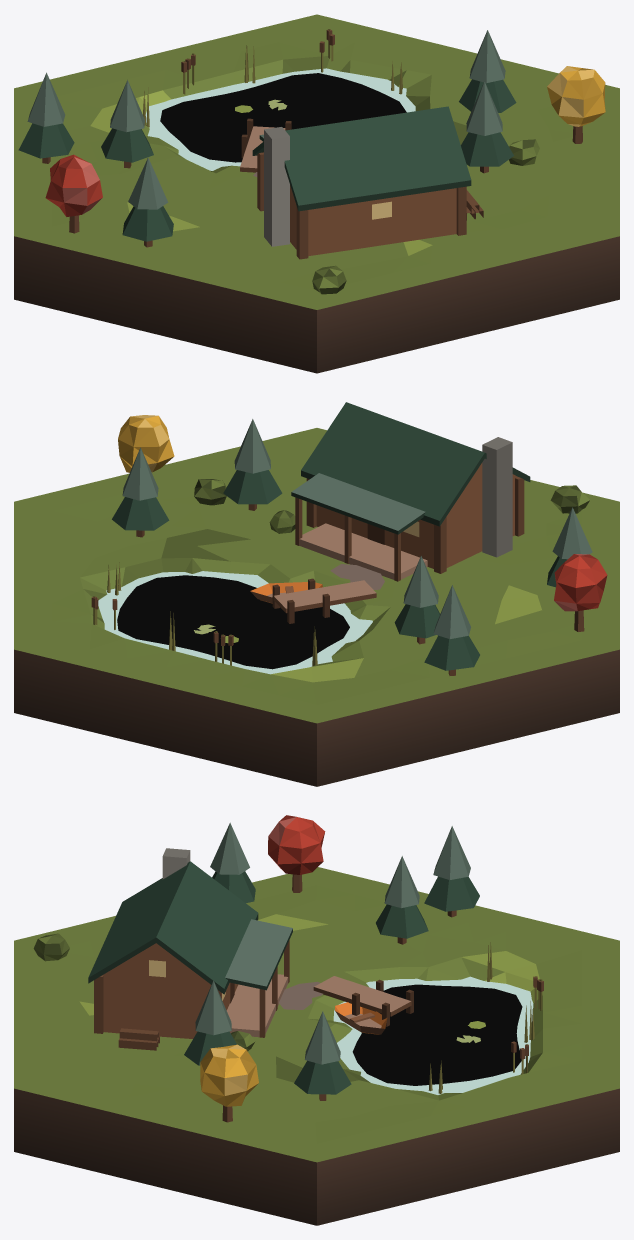
Rendered from SM_Tile_GoosebayLodge.fbx.
The picture shows the model from 3 angles, top to bottom: view 1: azimuth 30°, elevation 25°; view 2: azimuth 150°, elevation 25°; view 3: azimuth 270°, elevation 25°; orthographic projection.
Visible parts, largest first — view 1: SM_Tile_GoosebayLodge; view 2: SM_Tile_GoosebayLodge; view 3: SM_Tile_GoosebayLodge.
Part boxes in pixels (bbox=[...]): SM_Tile_GoosebayLodge: bbox=[14, 14, 619, 373]; SM_Tile_GoosebayLodge: bbox=[14, 402, 619, 786]; SM_Tile_GoosebayLodge: bbox=[14, 815, 619, 1225].
Bounding box in the file's own units: 20 × 5.39 × 17.32.
